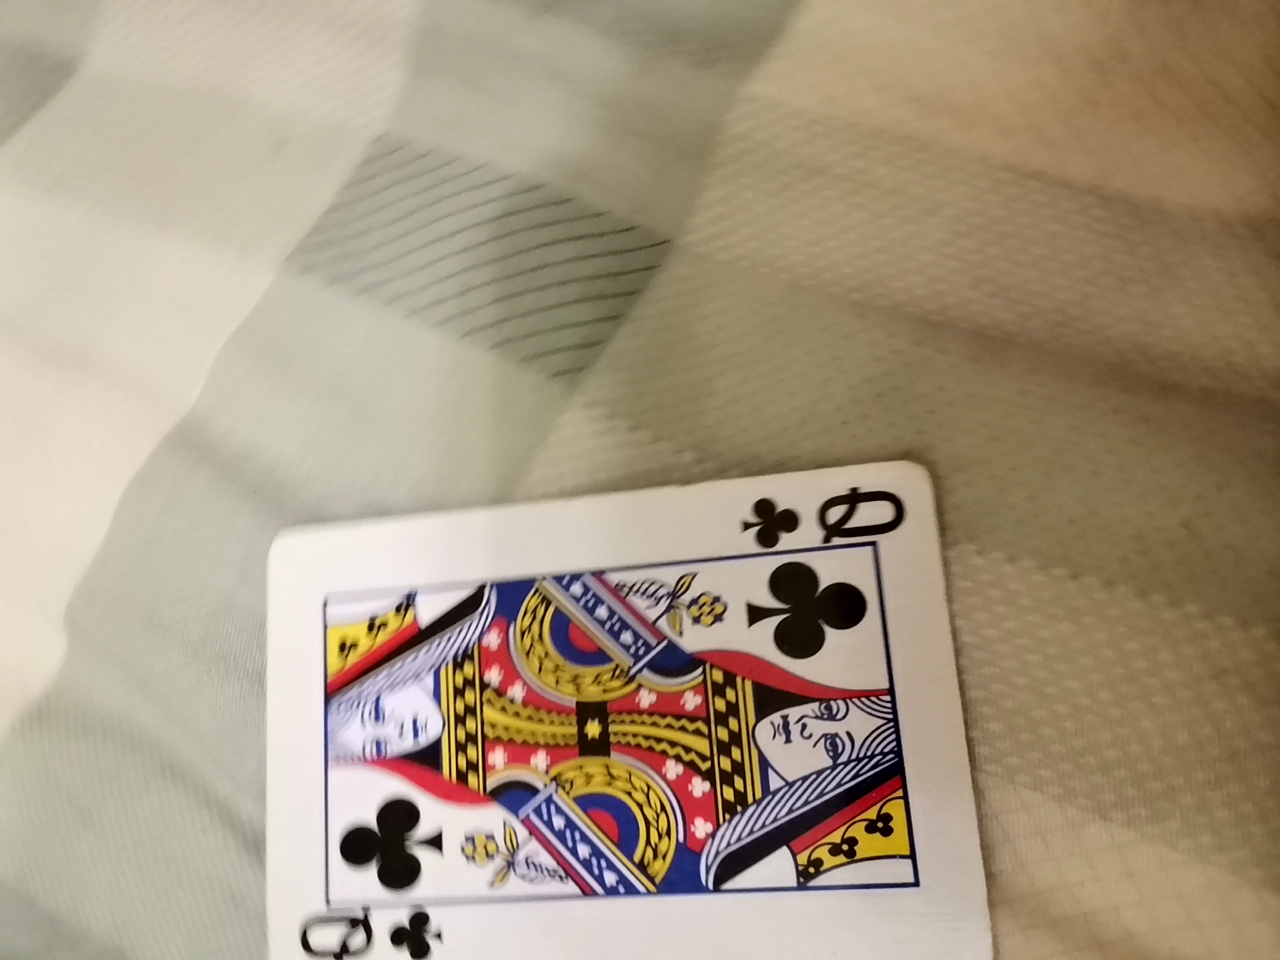mh q: (281, 441, 971, 946)
